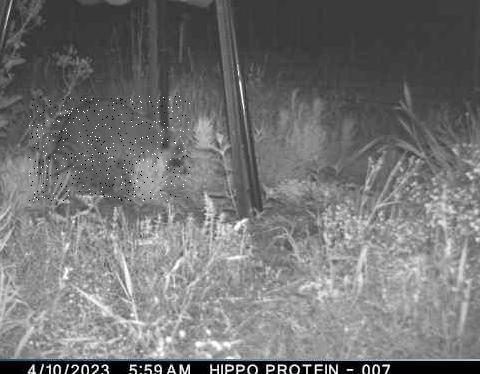Raccoon: (30, 97, 191, 202)
